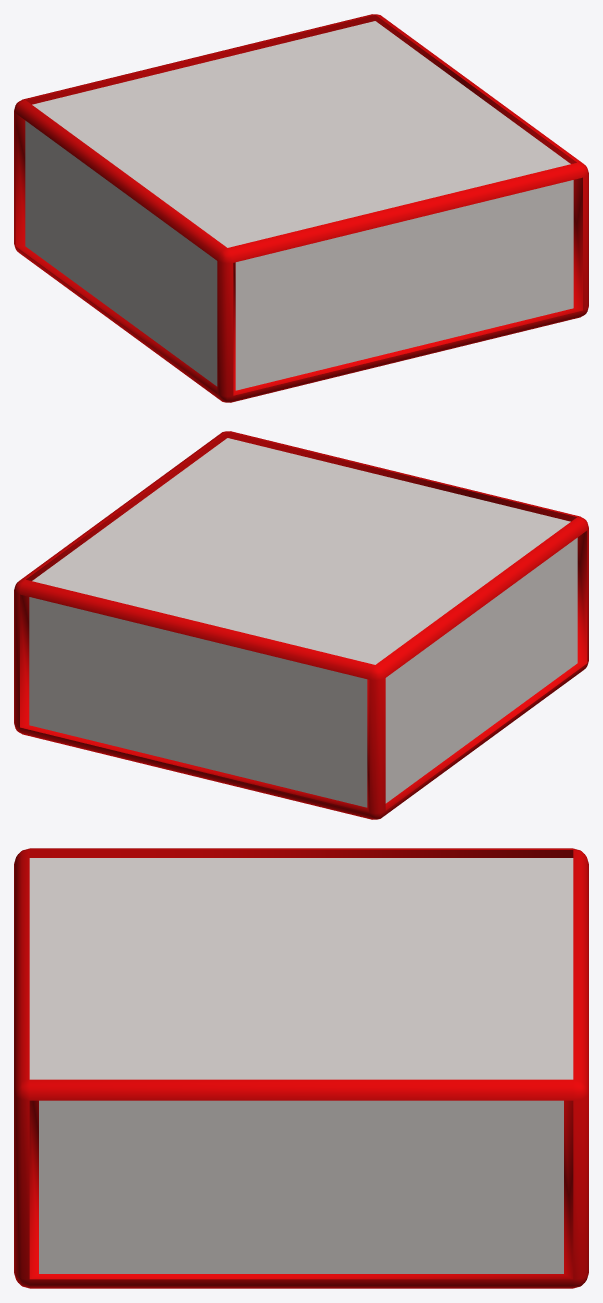
The picture shows the model from 3 angles, top to bottom: view 1: azimuth 30°, elevation 25°; view 2: azimuth 150°, elevation 25°; view 3: azimuth 270°, elevation 25°; orthographic projection. The views are drawn at different scales.
Parts seen in each view (by area): view 1: Cube_0.4; view 2: Cube_0.4; view 3: Cube_0.4.
Part boxes in pixels (left/top/right/bottom): Cube_0.4: left=14, top=14, right=588, bottom=402; Cube_0.4: left=14, top=431, right=588, bottom=819; Cube_0.4: left=14, top=848, right=588, bottom=1288.
Bounding box in the file's own units: 100 × 39.81 × 100.
